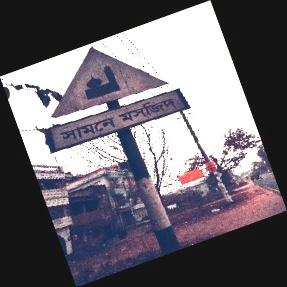Mosque in front: (44, 47, 186, 154)
